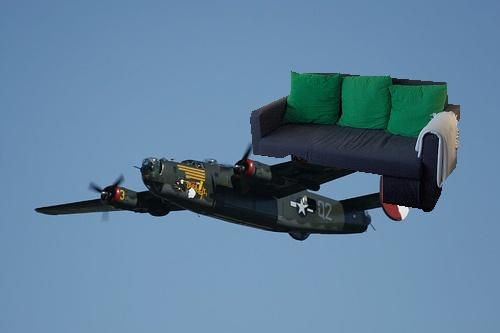tampered: (251, 72, 460, 212)
